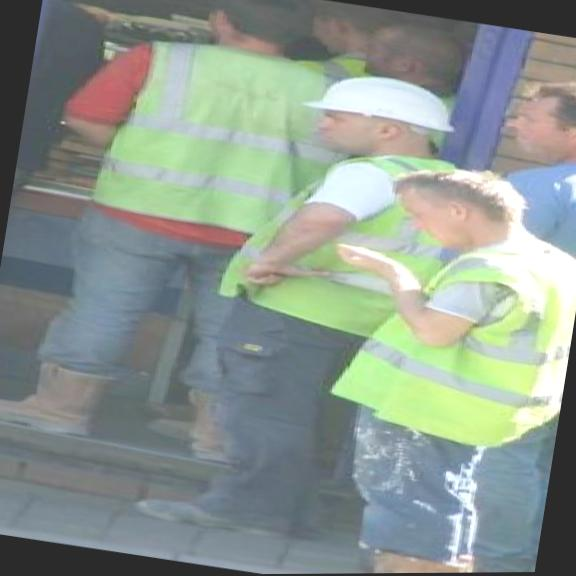safety_vest: (319, 206, 576, 452), (92, 21, 364, 251), (207, 122, 461, 352)
